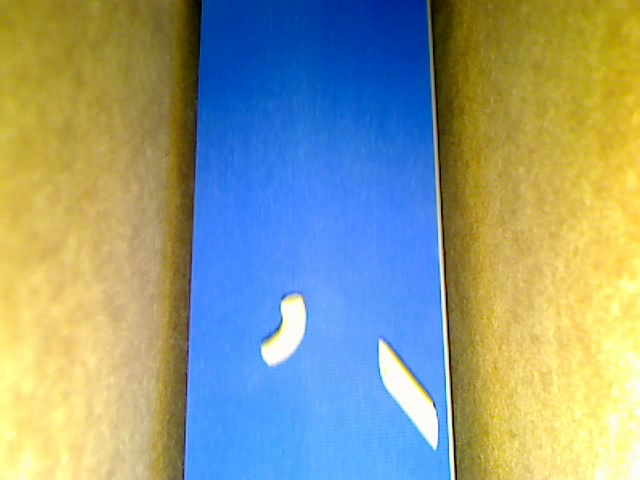elbow: (260, 293, 306, 367)
penne: (377, 338, 439, 449)
